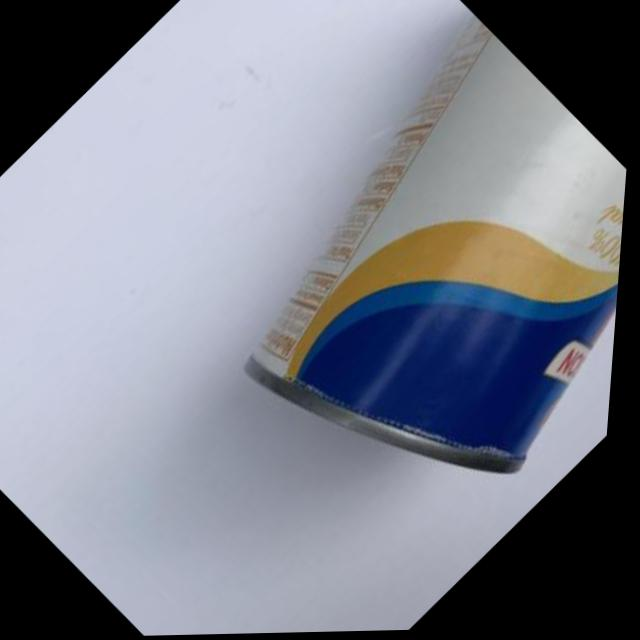metal: (352, 0, 639, 639)
